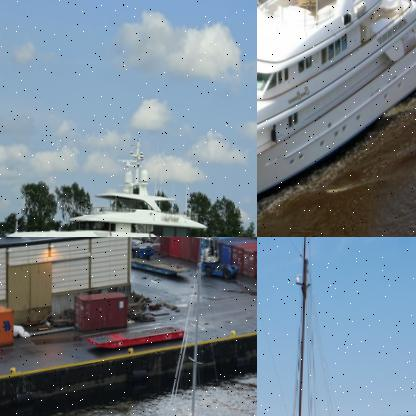Sails Boat: (133, 260, 256, 415), (257, 237, 358, 415)
Yacht: (257, 0, 415, 236), (5, 132, 256, 236)
